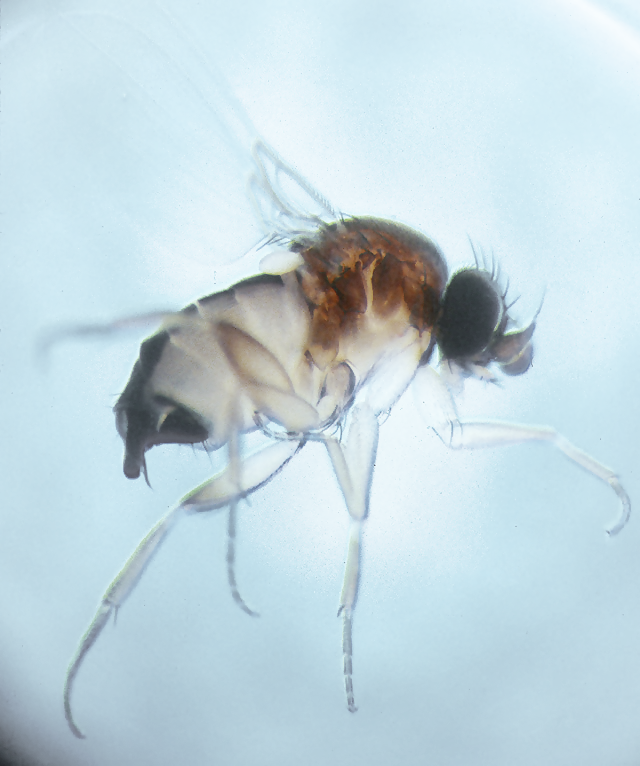phorid fly: (25, 79, 631, 720)
